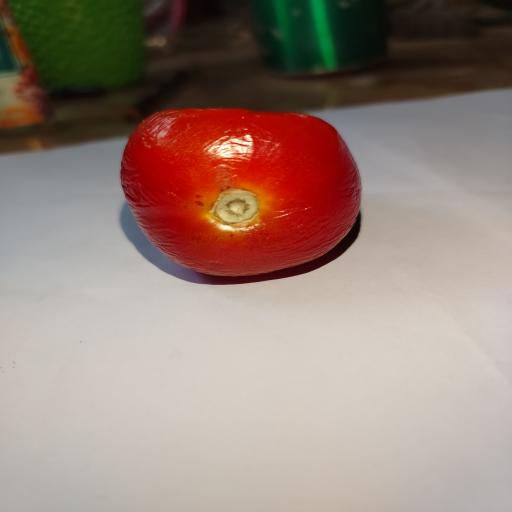spoiled: (121, 109, 361, 276)
